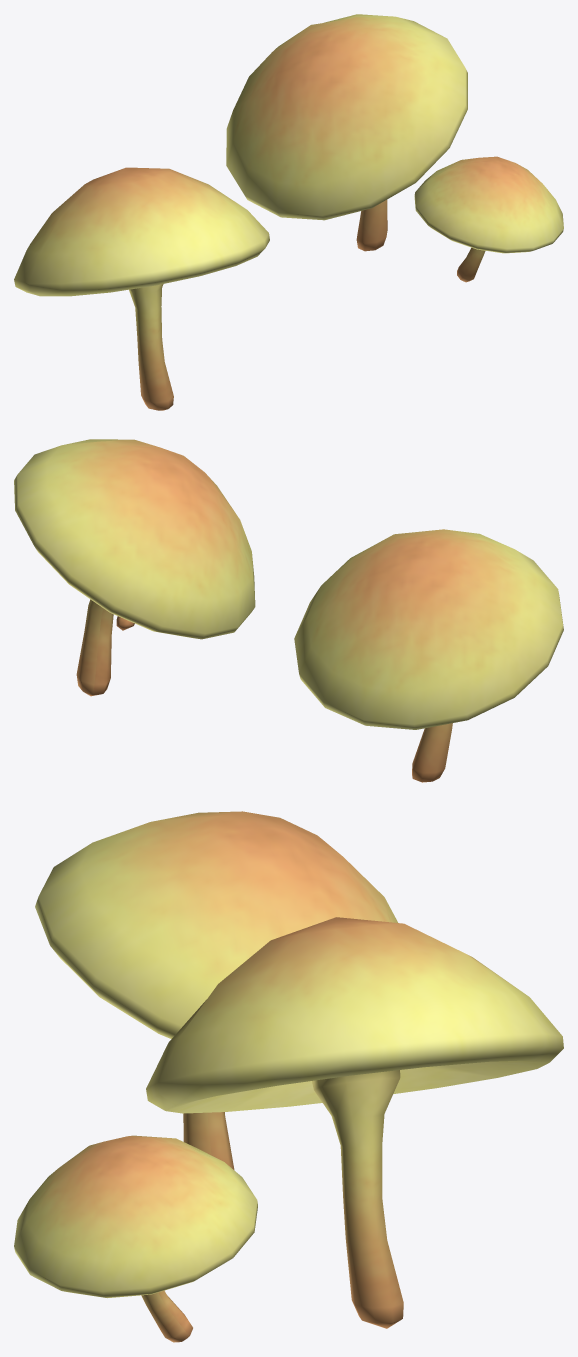
File: Cartoon Seaweed_13-1-9.fbx
3 views of the same model, one above another, from view 1: azimuth 30°, elevation 25°; view 2: azimuth 150°, elevation 25°; view 3: azimuth 270°, elevation 25° (orthographic). The views are drawn at different scales.
Visible parts, largest first — view 1: Cartoon Seaweed_13.1.9; view 2: Cartoon Seaweed_13.1.9; view 3: Cartoon Seaweed_13.1.9.
Part boxes in pixels (x1=…): Cartoon Seaweed_13.1.9: x1=14, y1=14, x2=563, y2=410; Cartoon Seaweed_13.1.9: x1=14, y1=439, x2=563, y2=782; Cartoon Seaweed_13.1.9: x1=14, y1=811, x2=563, y2=1342.
Size of the model in its own units: 14.59 by 8.15 by 8.69.
Materials: 1 (1 with a texture image).
